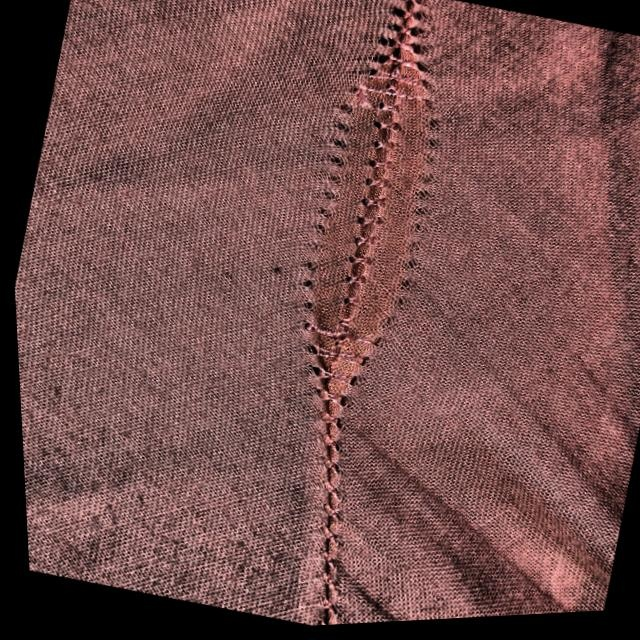seam: (228, 1, 515, 442)
